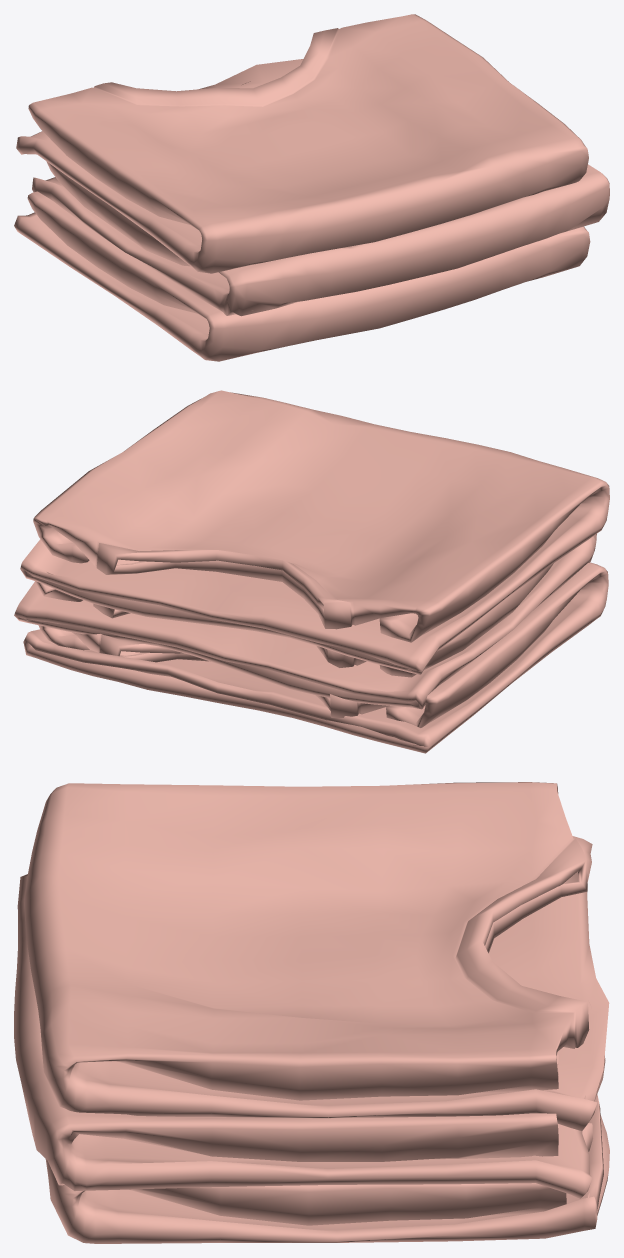
File: Folded_T_Shirt31.fbx
The picture shows the model from 3 angles, top to bottom: view 1: azimuth 30°, elevation 25°; view 2: azimuth 150°, elevation 25°; view 3: azimuth 270°, elevation 25°; orthographic projection. The views are drawn at different scales.
Visible parts, largest first — view 1: Folded_T_Shirt31; view 2: Folded_T_Shirt31; view 3: Folded_T_Shirt31.
Part boxes in pixels (bbox=[...]): Folded_T_Shirt31: bbox=[14, 14, 609, 361]; Folded_T_Shirt31: bbox=[14, 390, 609, 753]; Folded_T_Shirt31: bbox=[14, 782, 609, 1243].
Size of the model in its own units: 38.43 by 11.89 by 33.24.
Materials: 1 (1 with a texture image).
